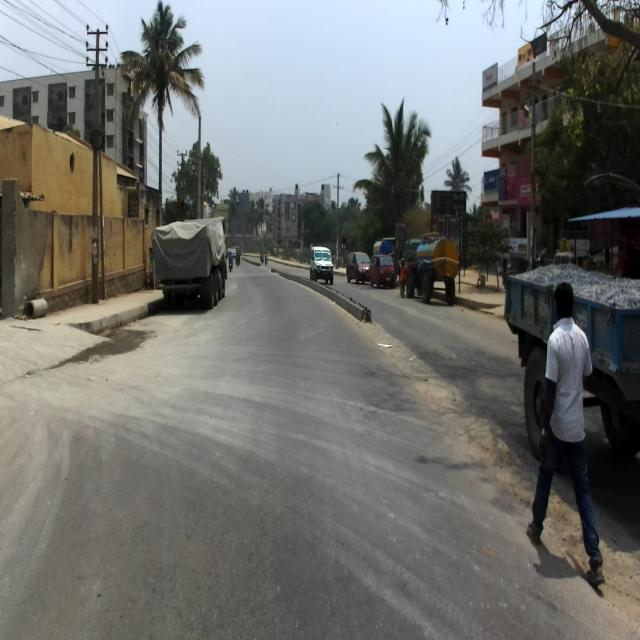electric pole ahead at: (76, 17, 116, 311)
person ahead at: (526, 271, 608, 611)
truck ahead at: (149, 212, 229, 308)
